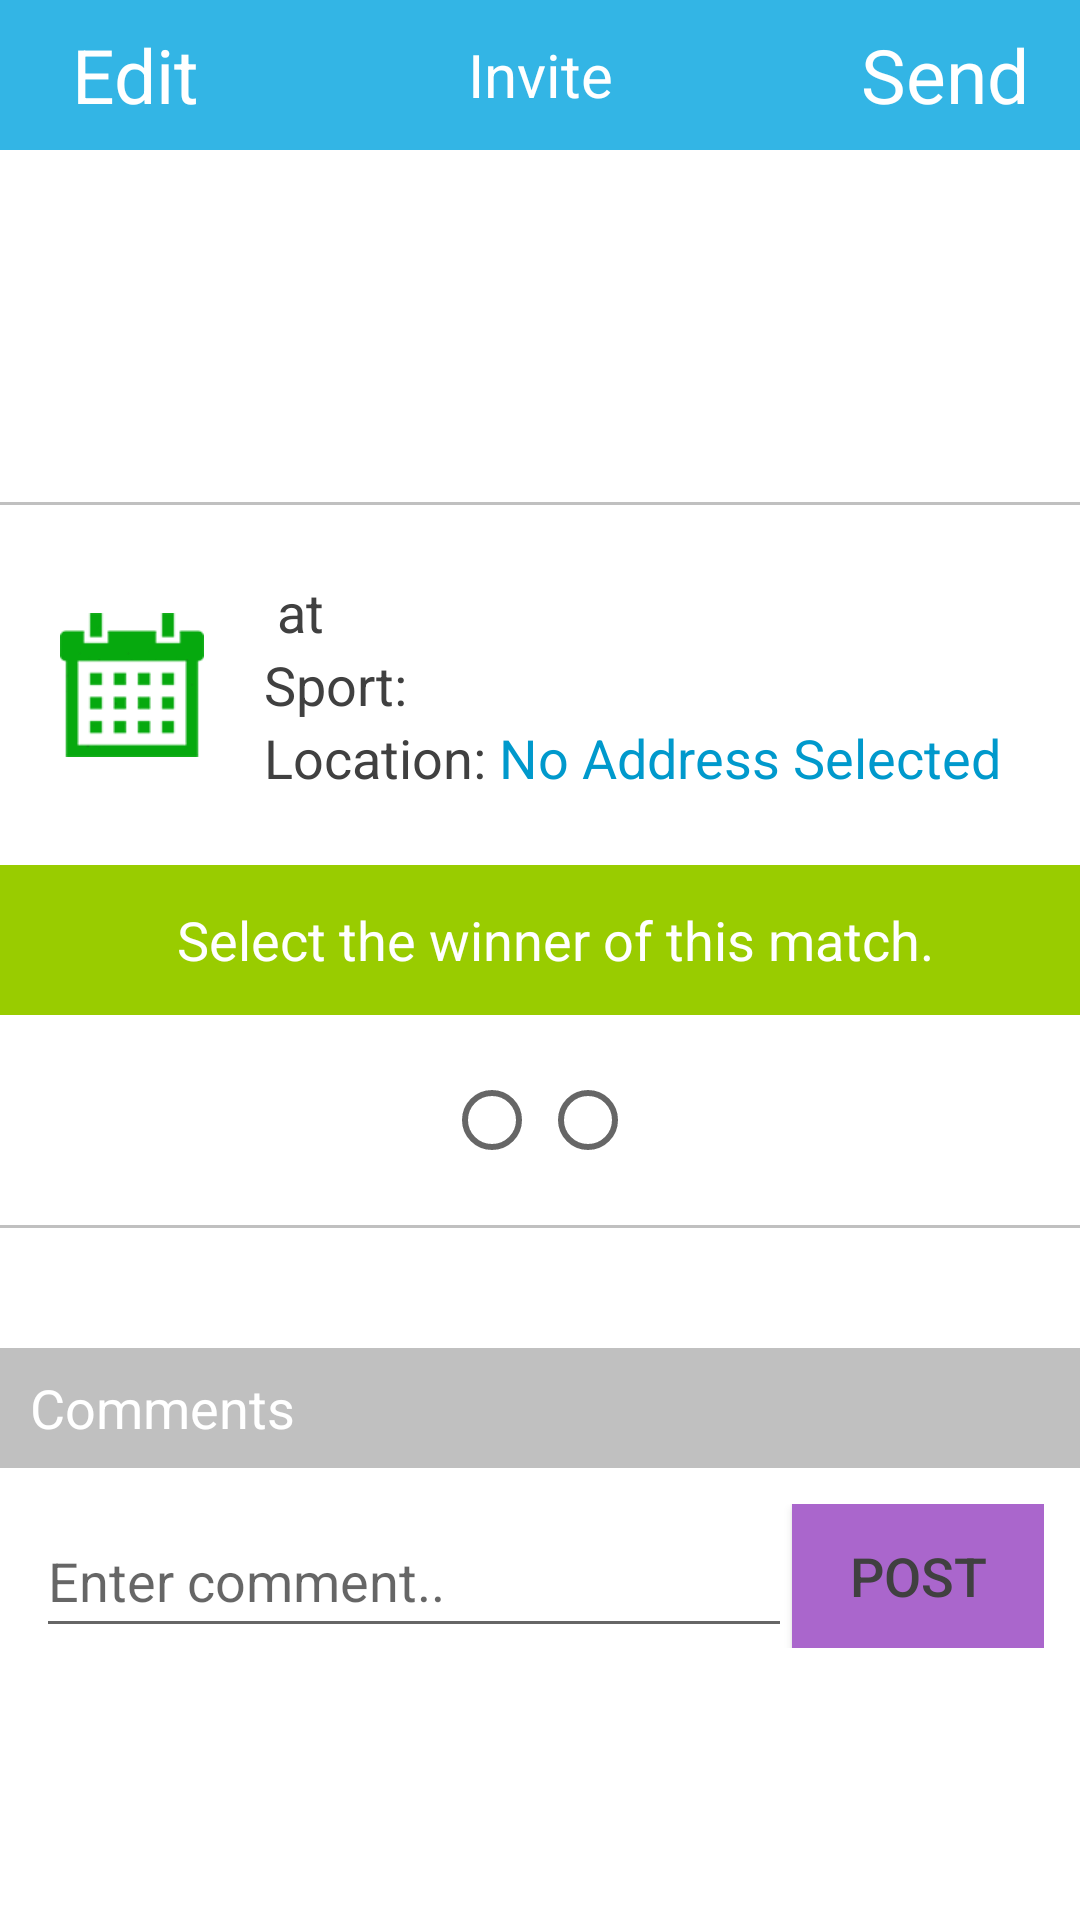

Screen size 1080px×1920px. Icon name, then its center in pixels as (x=x, y=y):
calender: (x=132, y=685)
